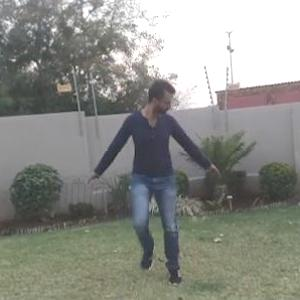land: (77, 73, 220, 294)
